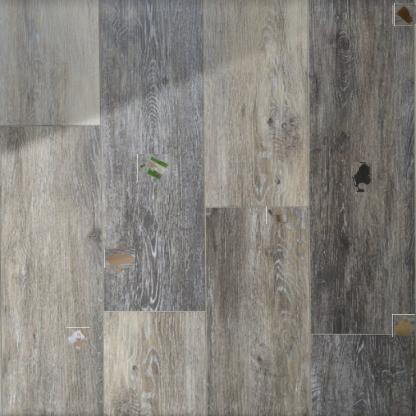dirty: (137, 154, 170, 182), (107, 246, 132, 271), (66, 327, 90, 350), (393, 4, 415, 25), (266, 206, 287, 224)
liquid: (350, 162, 372, 192), (392, 314, 415, 337)
